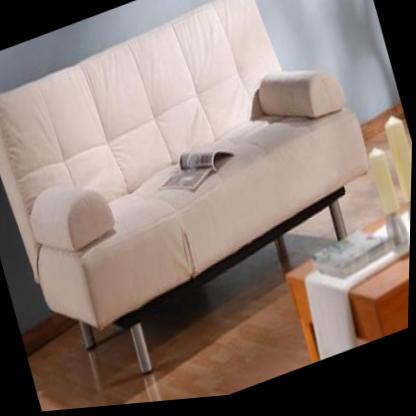Sofa: (0, 0, 409, 416)
Table: (275, 203, 412, 373)
Wooden floor: (150, 280, 314, 404)
